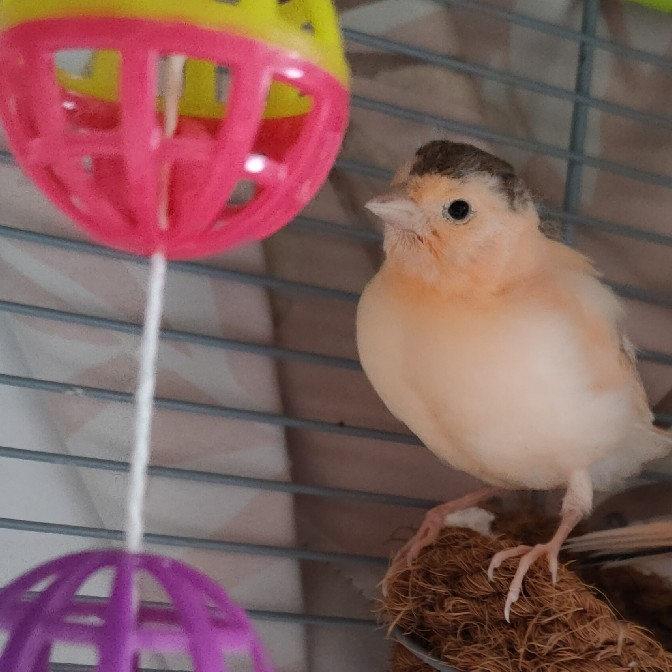Not_a_Chicken: (338, 122, 648, 606)
